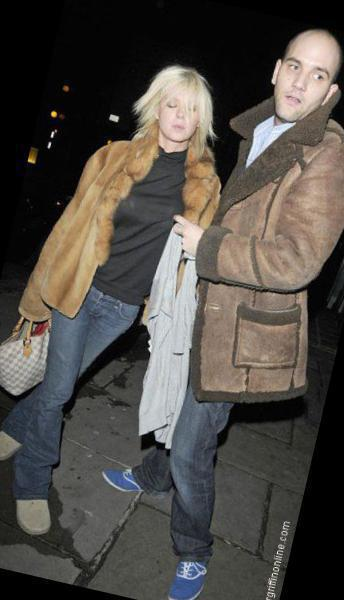Drunk: (279, 38, 329, 120), (163, 87, 197, 140)
